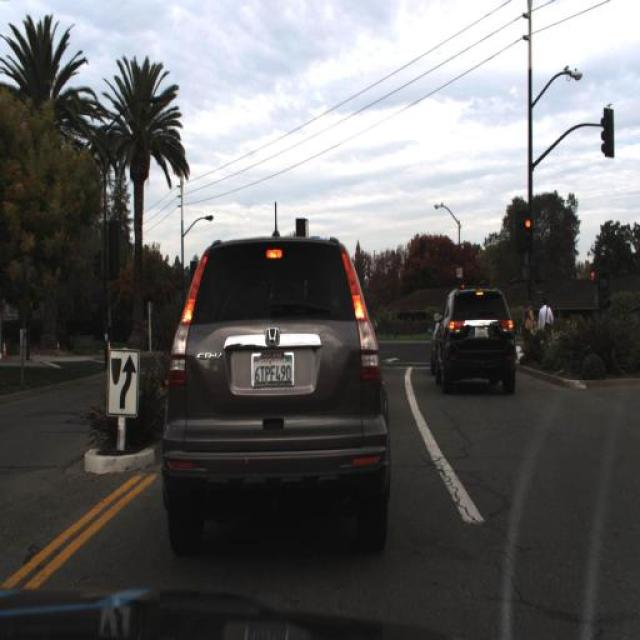car: (160, 235, 392, 561), (431, 285, 517, 395), (617, 295, 639, 343), (522, 303, 538, 342)
trafficLight: (539, 295, 550, 350), (524, 299, 536, 339)
trafficLight-RedLeft: (522, 219, 532, 250), (589, 269, 596, 295)
